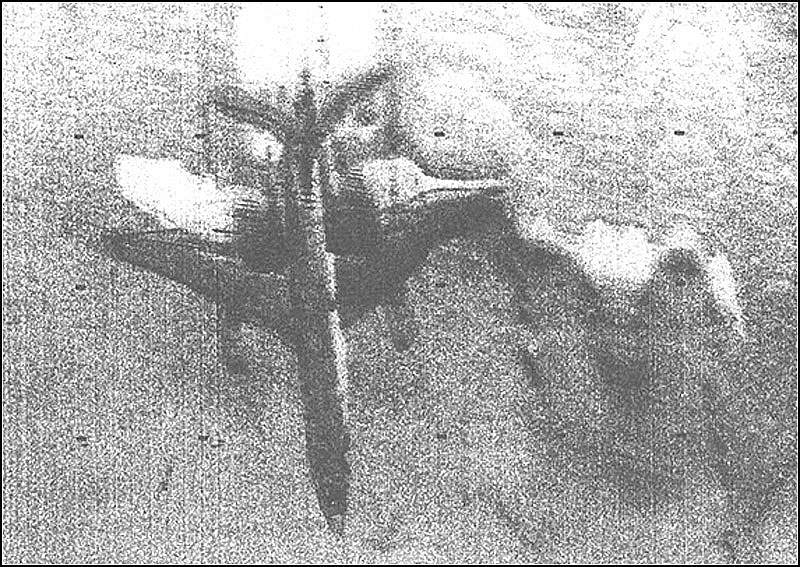aircraft: (108, 71, 499, 465)
